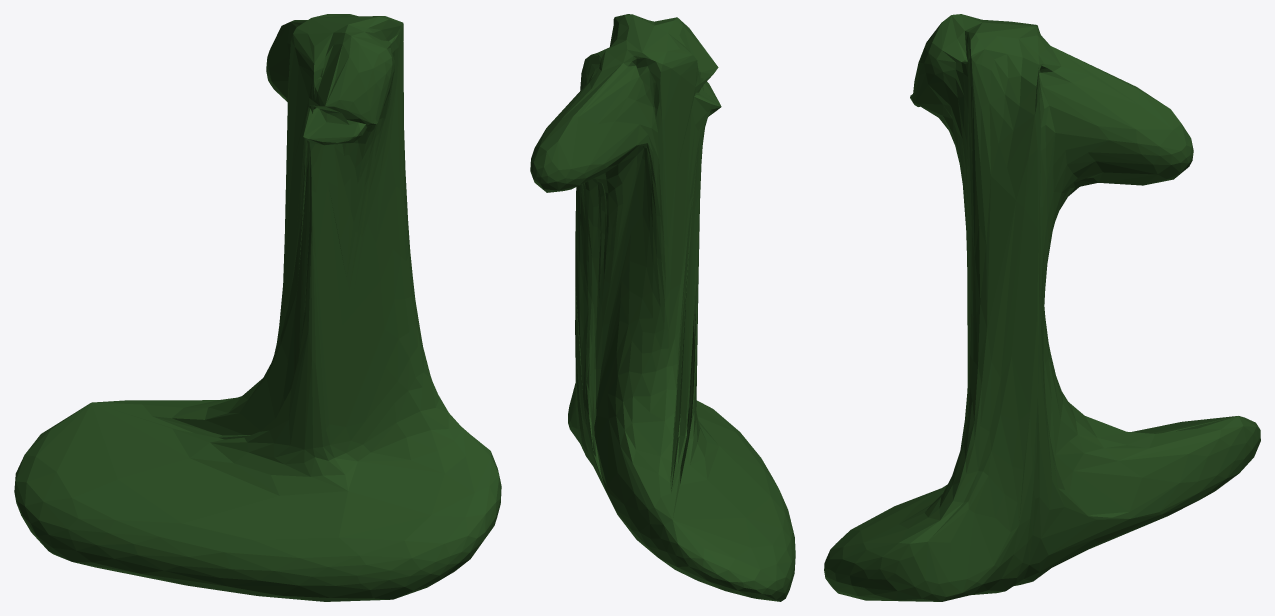
The picture shows the model from 3 angles, left to right: view 1: azimuth 30°, elevation 25°; view 2: azimuth 150°, elevation 25°; view 3: azimuth 270°, elevation 25°; orthographic projection. The views are drawn at different scales.
Parts seen in each view (by area): view 1: 182_Cube.756; view 2: 182_Cube.756; view 3: 182_Cube.756.
Boxes of the visible parts, left/top/right/bottom form: 182_Cube.756: left=14, top=14, right=501, bottom=601; 182_Cube.756: left=530, top=14, right=795, bottom=601; 182_Cube.756: left=824, top=14, right=1260, bottom=601.
Bounding box in the file's own units: 8.6 × 12.85 × 8.72.
